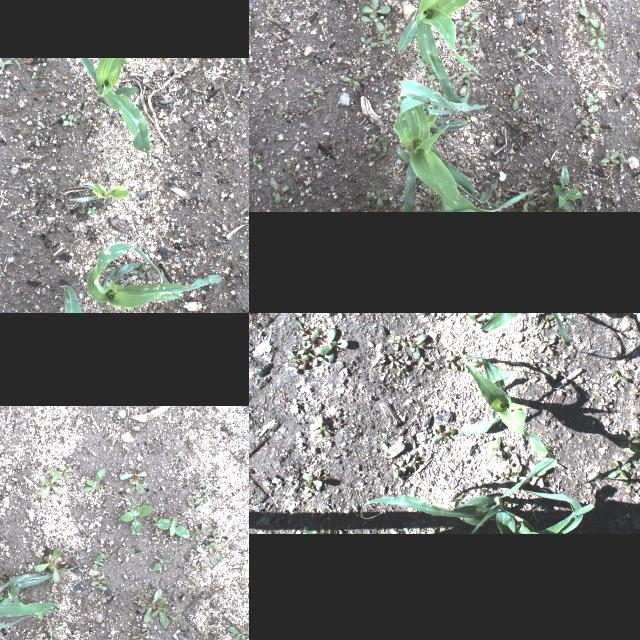crop: (396, 0, 577, 111), (393, 79, 535, 211), (360, 457, 596, 533), (456, 349, 554, 457), (86, 242, 222, 308), (78, 57, 158, 169), (466, 313, 587, 345), (65, 285, 123, 313), (64, 182, 128, 202)
weed: (298, 321, 348, 361), (118, 498, 154, 534), (554, 164, 582, 210), (138, 588, 170, 626), (34, 546, 62, 582), (119, 464, 147, 494), (151, 516, 191, 536), (101, 157, 133, 181), (300, 515, 342, 533), (39, 470, 65, 498), (597, 150, 629, 170), (367, 180, 388, 210), (268, 179, 290, 205), (577, 6, 599, 32), (360, 0, 390, 19), (586, 22, 606, 50), (302, 471, 326, 494), (458, 10, 480, 34), (288, 346, 308, 372), (407, 332, 427, 358), (82, 468, 106, 489), (194, 482, 210, 512), (196, 546, 222, 564), (492, 436, 512, 459), (609, 460, 631, 480), (365, 135, 389, 153), (620, 429, 640, 450), (310, 416, 330, 436), (368, 32, 392, 48), (537, 194, 561, 210), (432, 425, 456, 441), (459, 38, 478, 58), (518, 190, 536, 210), (47, 619, 64, 640), (361, 15, 384, 30), (510, 83, 522, 111), (229, 624, 249, 640), (90, 575, 110, 591), (154, 552, 170, 572), (390, 460, 406, 480), (516, 46, 538, 60), (468, 313, 485, 330), (188, 428, 206, 444), (538, 338, 556, 354), (137, 264, 153, 280), (376, 24, 392, 40), (404, 455, 420, 471), (626, 445, 640, 463), (389, 336, 407, 350), (538, 314, 556, 328), (580, 120, 600, 132), (303, 83, 323, 95), (342, 75, 362, 87), (208, 528, 220, 548), (445, 350, 457, 370), (92, 553, 105, 571), (308, 102, 322, 118), (358, 37, 372, 53), (57, 463, 71, 479), (611, 370, 627, 384), (586, 95, 598, 112), (309, 352, 323, 366), (398, 354, 412, 368), (542, 367, 558, 379), (194, 517, 212, 527), (196, 560, 207, 576), (249, 155, 263, 167), (232, 578, 246, 590), (418, 356, 432, 368), (140, 624, 156, 634), (0, 57, 12, 70), (388, 354, 399, 368), (249, 313, 260, 327), (62, 112, 72, 126), (598, 398, 608, 412), (479, 485, 493, 495), (511, 466, 522, 478), (276, 102, 284, 118), (233, 432, 249, 440), (238, 248, 248, 260), (452, 494, 462, 506), (506, 496, 518, 506), (469, 313, 493, 318), (190, 526, 198, 540), (629, 388, 640, 398), (457, 362, 468, 372), (534, 358, 546, 367), (132, 420, 142, 430), (396, 365, 406, 375), (468, 359, 482, 366), (14, 57, 22, 69), (489, 473, 498, 483), (632, 429, 640, 440), (249, 464, 254, 481), (88, 205, 96, 215), (198, 90, 208, 98), (70, 174, 78, 184), (614, 79, 622, 89), (498, 474, 508, 482), (294, 482, 304, 490), (621, 313, 640, 317), (100, 100, 106, 112), (130, 634, 148, 638), (496, 331, 502, 343), (239, 57, 249, 64), (628, 486, 634, 496), (237, 566, 246, 572), (499, 342, 505, 351), (635, 480, 640, 489), (36, 114, 42, 120), (32, 70, 36, 78)
